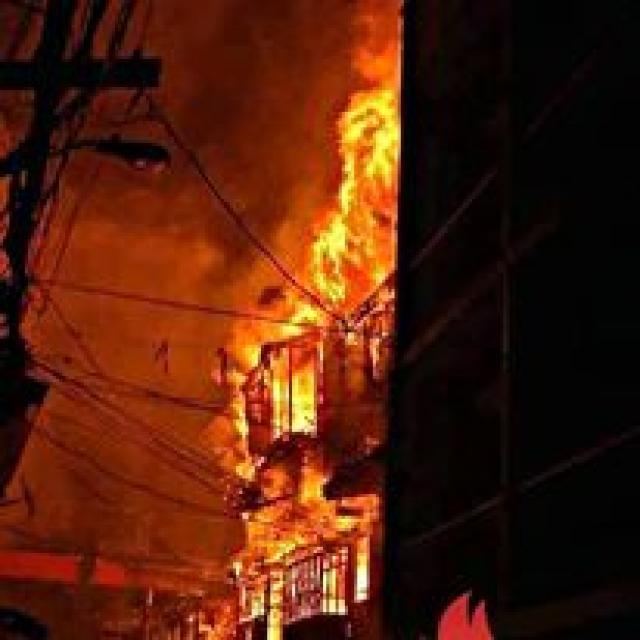Fire: (213, 272, 339, 512), (330, 1, 395, 299)
Smoke: (122, 23, 368, 530)
